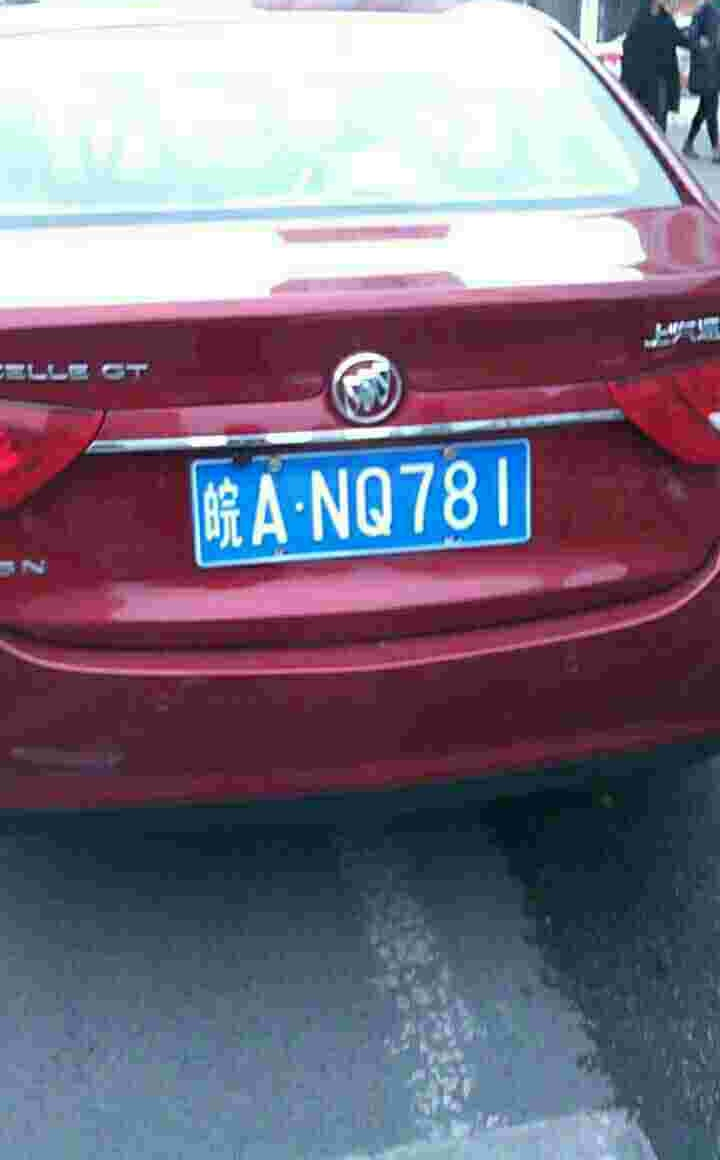license_plate: (193, 443, 530, 567)
